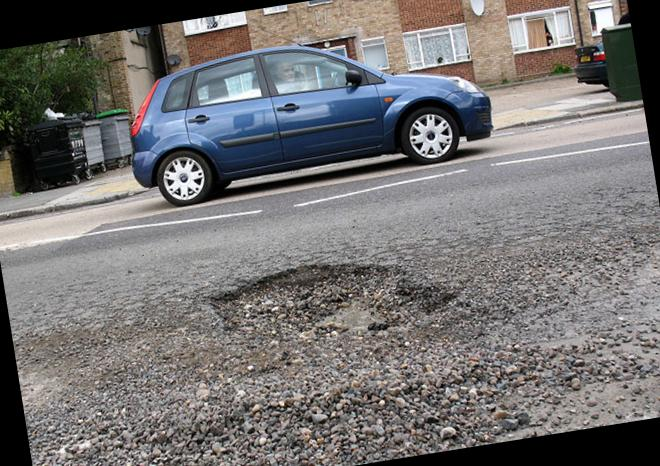pothole: (192, 231, 486, 378)
